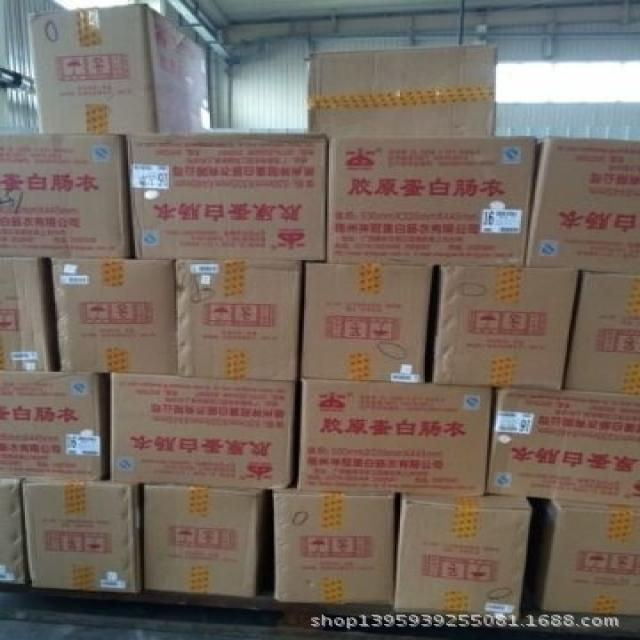box: (327, 136, 537, 265), (124, 135, 327, 260), (27, 3, 212, 135), (297, 381, 492, 495), (110, 372, 297, 488), (485, 388, 640, 508), (434, 265, 578, 391), (393, 493, 530, 621), (308, 43, 496, 136), (0, 133, 132, 257), (300, 263, 434, 383), (526, 136, 640, 273), (176, 260, 302, 380), (52, 257, 178, 375), (272, 487, 395, 607), (144, 484, 267, 599), (25, 479, 142, 593), (539, 501, 640, 617), (0, 372, 108, 480), (564, 273, 640, 395), (0, 257, 53, 372), (0, 477, 27, 585)
